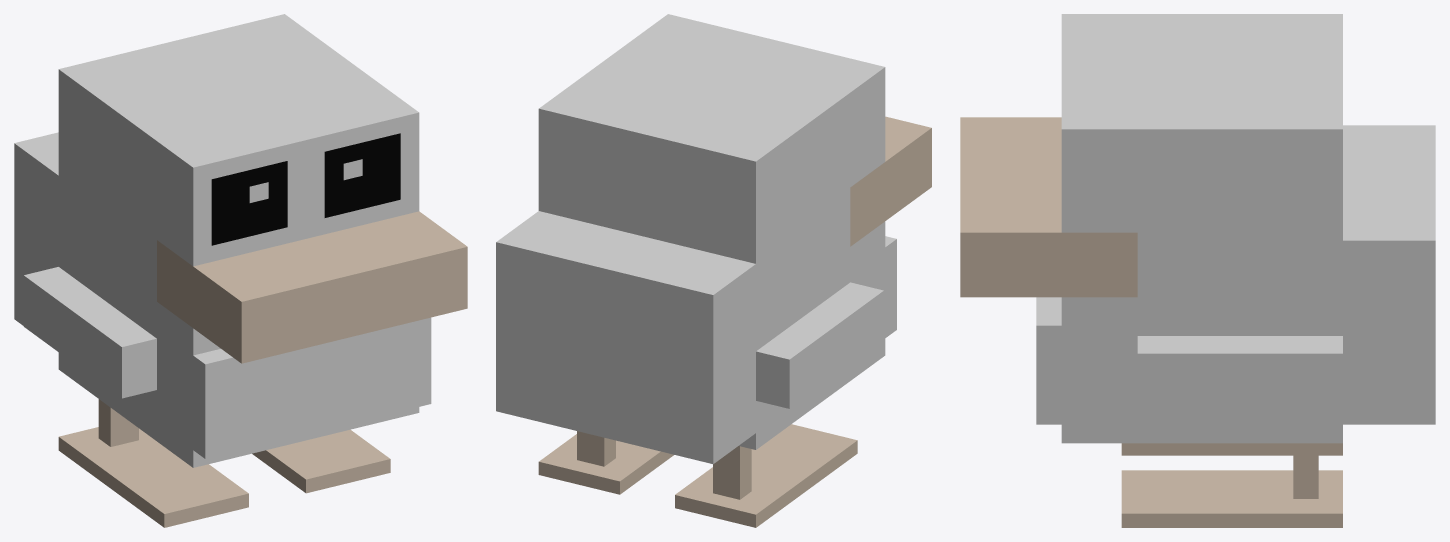
The model's file is raca.fbx.
3 renders of one model, left to right at view 1: azimuth 30°, elevation 25°; view 2: azimuth 150°, elevation 25°; view 3: azimuth 270°, elevation 25°, orthographic. The views are drawn at different scales.
Visible parts, largest first — view 1: Model; view 2: Model; view 3: Model.
Part boxes in pixels (box(x1,y1,x2,y2)): Model: box(14, 14, 467, 527); Model: box(496, 14, 931, 527); Model: box(960, 14, 1435, 527).
Bounding box in the file's own units: 127 × 156 × 169.
